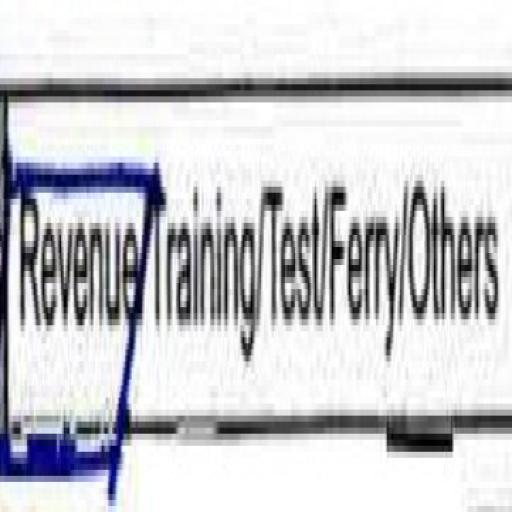check: (0, 24, 143, 506)
